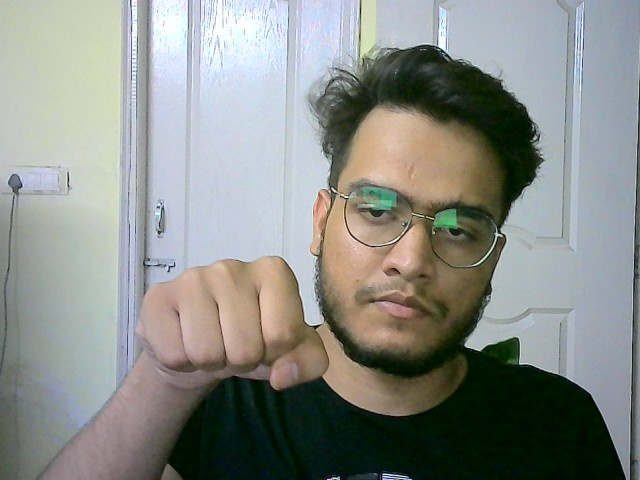Yes: (129, 243, 342, 402)
